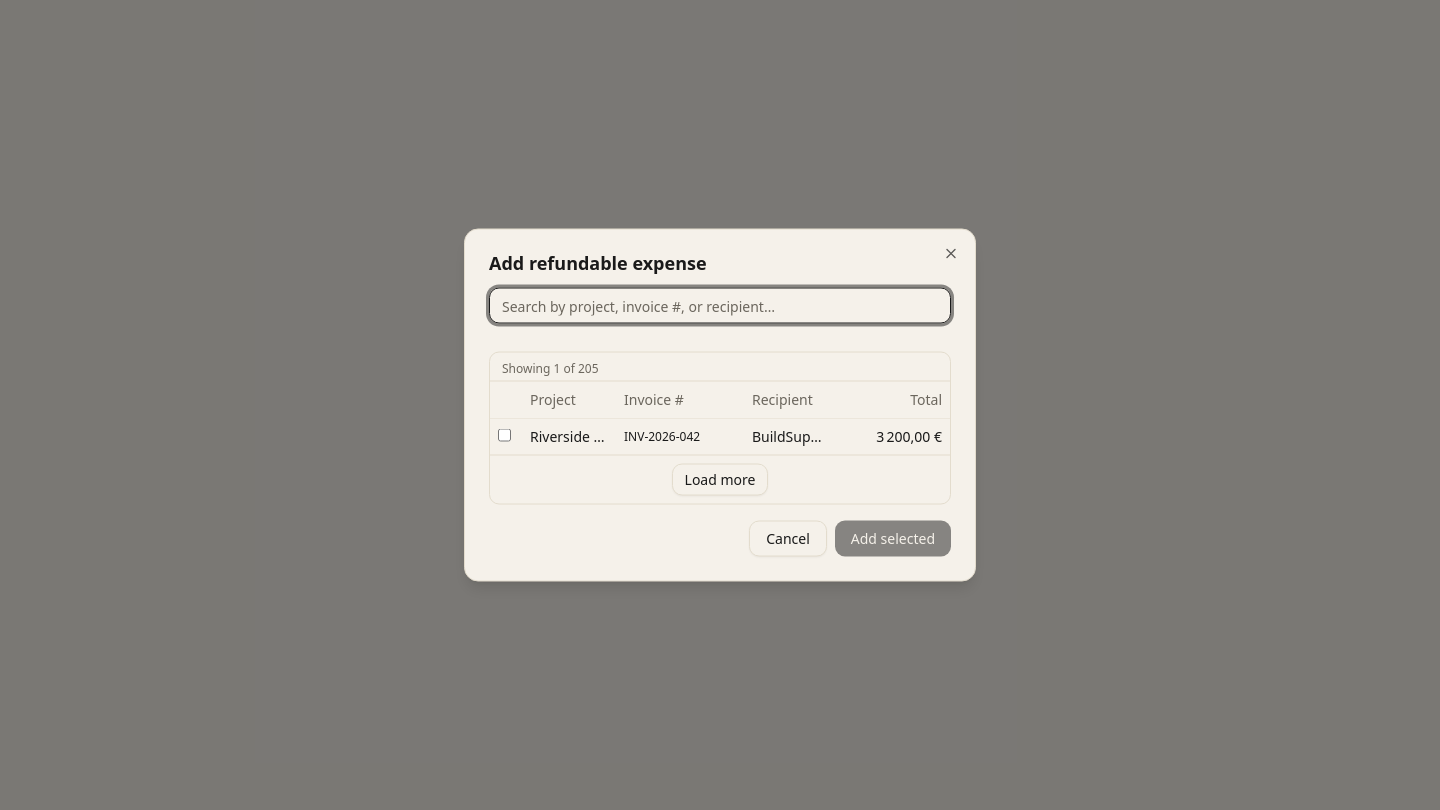
Test: AddRefundableExpenseDialog — past the first 200 candidates › says none were found once the server finds nothing
This screenshot has width=1440, height=810.
Expected: the text "Riverside Tower" is shown, left=522, top=418, right=616, bottom=454
Type "nothing like it" into the field at (720, 306), box left=489, top=288, right=951, bottom=324
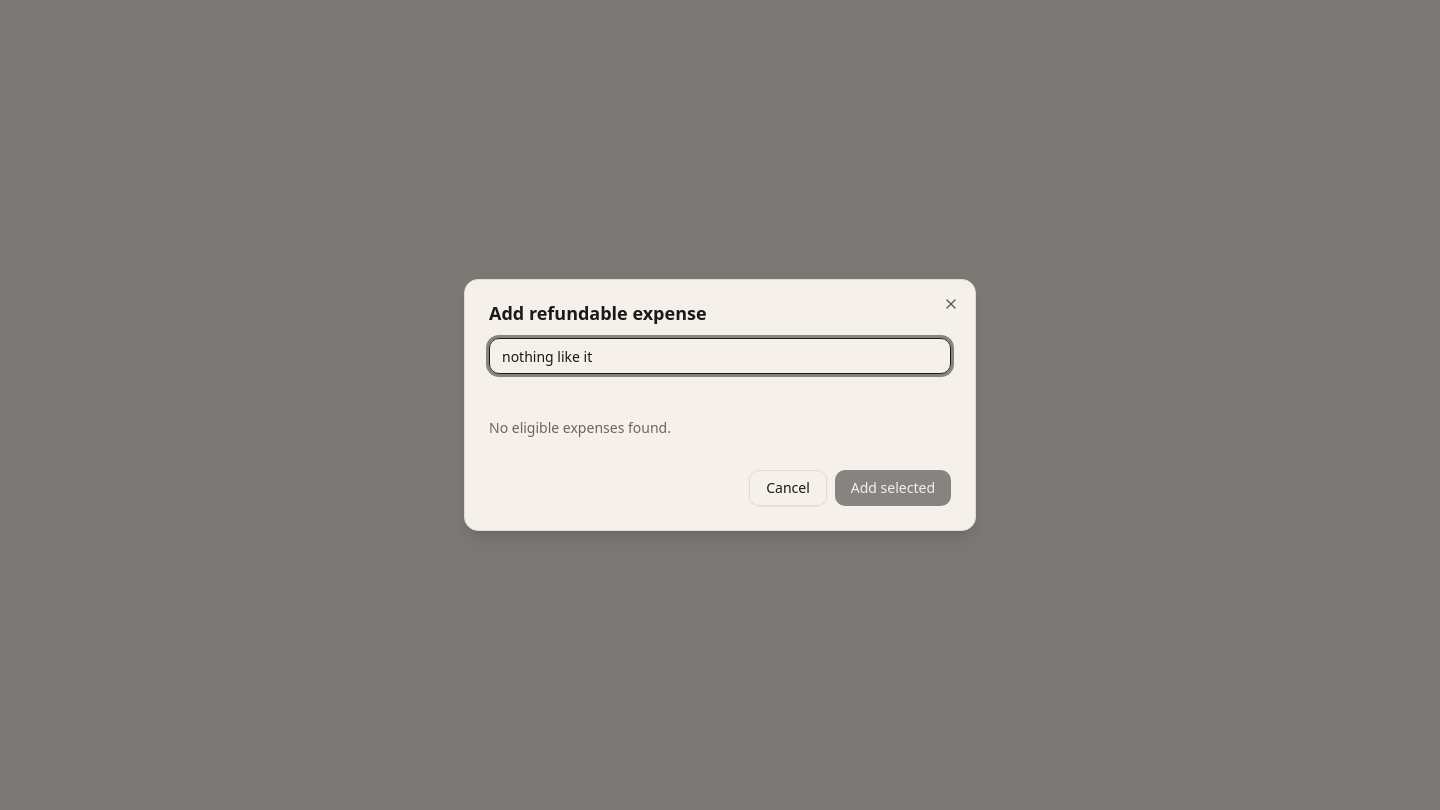
Now the text "No eligible expenses found." is shown, box left=489, top=418, right=671, bottom=437
